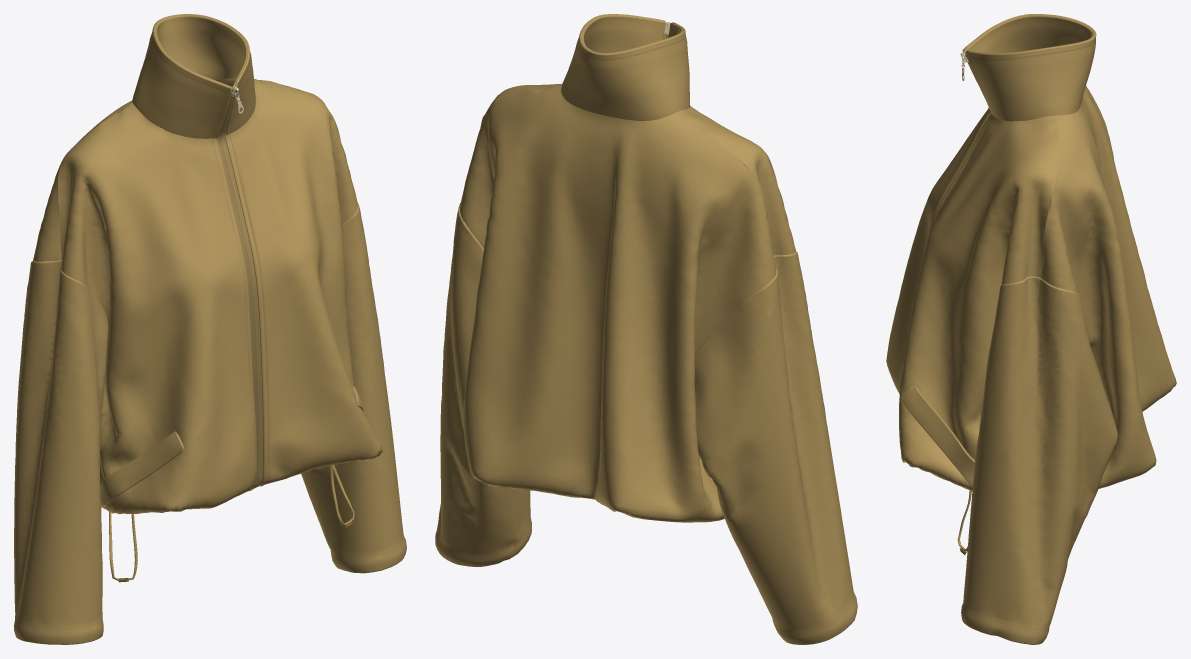
The model's file is jacket-coat.glb.
3 renders of one model, left to right at view 1: azimuth 30°, elevation 25°; view 2: azimuth 150°, elevation 25°; view 3: azimuth 270°, elevation 25°, orthographic. The views are drawn at different scales.
Visible parts, largest first — view 1: Object_6, Object_7, Object_5, Object_4, Object_8, Object_3, Object_9, Object_10; view 2: Object_10, Object_5, Object_4, Object_8, Object_6; view 3: Object_4, Object_7, Object_10, Object_8, Object_6, Object_9.
Part boxes in pixels (x1,y1,x2,y2): Object_6: (57, 104, 256, 514); Object_7: (225, 80, 382, 486); Object_5: (14, 260, 108, 644); Object_4: (301, 202, 406, 573); Object_8: (132, 14, 255, 138); Object_3: (217, 84, 263, 488); Object_9: (100, 386, 363, 582); Object_10: (33, 78, 264, 261); Object_10: (460, 85, 776, 522); Object_5: (694, 252, 857, 644); Object_4: (435, 202, 531, 566); Object_8: (561, 14, 690, 120); Object_6: (676, 106, 796, 255); Object_4: (961, 276, 1118, 644); Object_7: (899, 113, 1058, 490); Object_10: (1041, 86, 1176, 488); Object_8: (962, 14, 1096, 121); Object_6: (886, 108, 990, 393); Object_9: (900, 385, 974, 554).
Bounding box in the file's own units: 565 × 775 × 382.
Materials: 3 (1 with a texture image).
